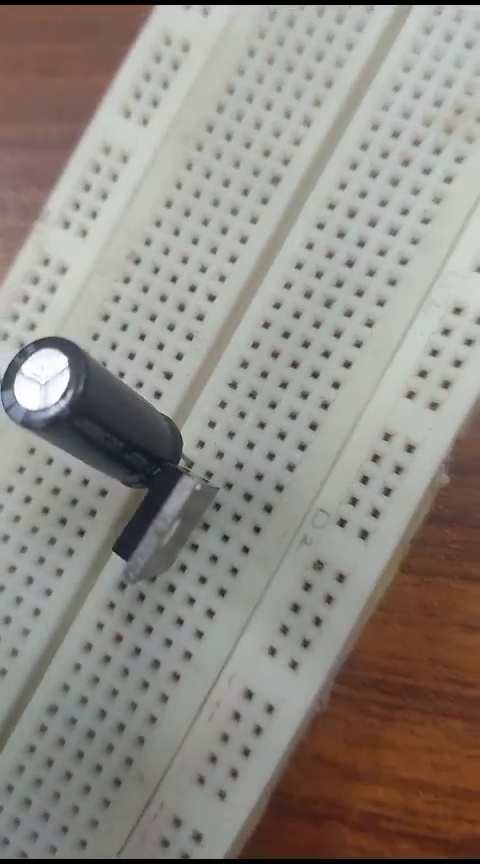capacitor: (2, 328, 186, 499)
voltage regulator: (111, 457, 216, 604)
